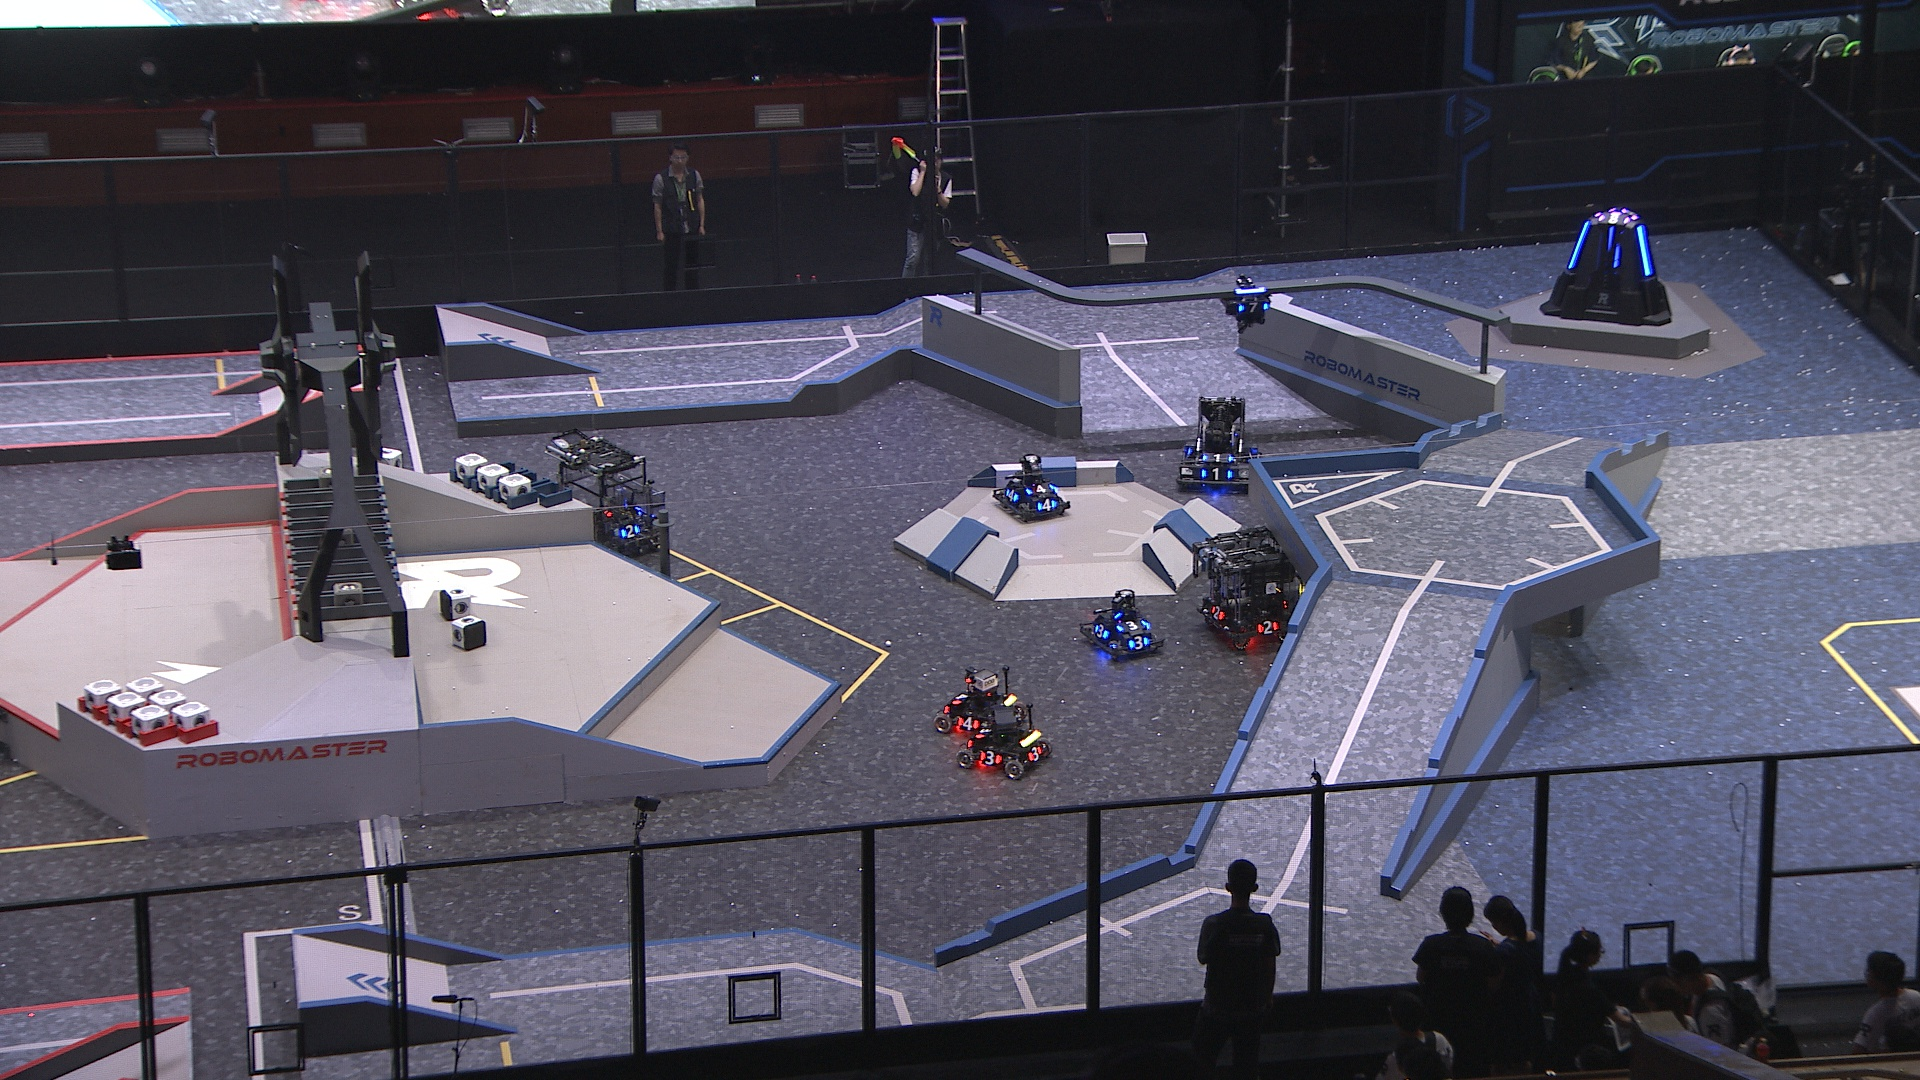armor: (1567, 220, 1594, 270), (1634, 223, 1658, 281), (1199, 465, 1238, 483), (1116, 617, 1149, 636), (1022, 480, 1058, 496), (615, 520, 640, 542), (1200, 451, 1238, 465), (1126, 632, 1153, 651), (1236, 301, 1271, 315), (1254, 617, 1278, 637), (977, 749, 1004, 766), (949, 688, 972, 708), (1034, 496, 1058, 513), (1025, 744, 1044, 764), (1604, 224, 1617, 253), (1092, 622, 1110, 642), (955, 717, 981, 731), (1004, 485, 1021, 504), (1182, 442, 1195, 465), (1211, 604, 1226, 622), (1245, 448, 1258, 465)
base: (1536, 202, 1676, 330)
car: (541, 429, 674, 564), (1192, 518, 1325, 650), (955, 704, 1062, 783), (1174, 396, 1262, 491), (931, 665, 1031, 735), (1079, 585, 1167, 661), (986, 451, 1073, 522)
ignore: (1596, 210, 1633, 225)
watcher: (1218, 273, 1273, 334)
